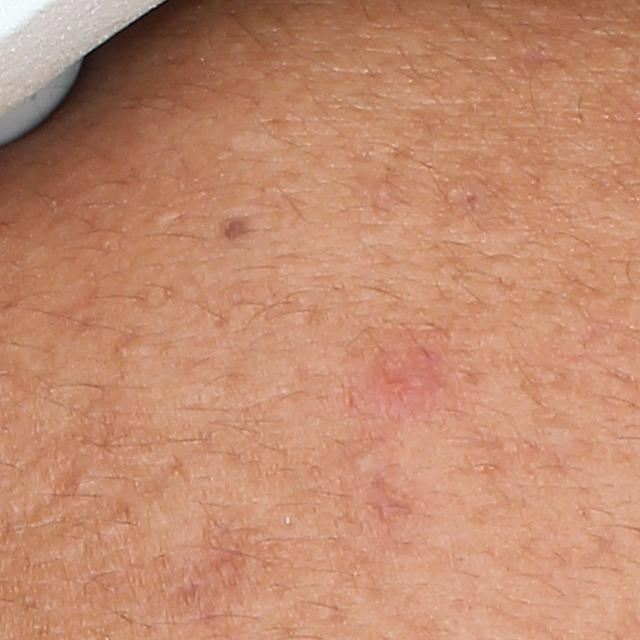comedo: (66, 463, 91, 499), (116, 336, 151, 359), (142, 205, 177, 226), (350, 447, 376, 473)
